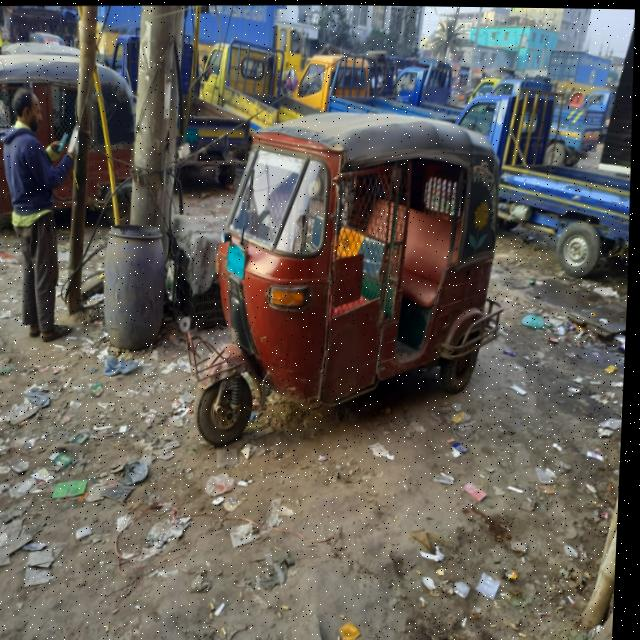cng: (173, 106, 525, 526)
